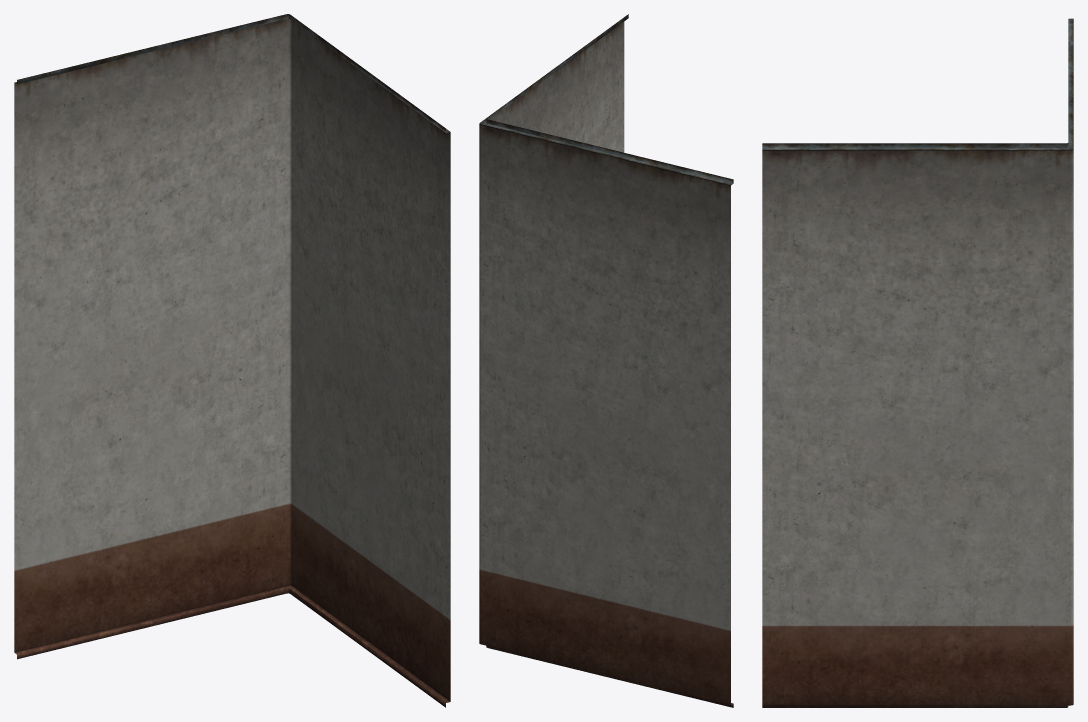
Rendered from scanningroom_concave.dae.
3 renders of one model, left to right at view 1: azimuth 30°, elevation 25°; view 2: azimuth 150°, elevation 25°; view 3: azimuth 270°, elevation 25°, orthographic. The views are drawn at different scales.
Parts seen in each view (by area): view 1: scanningroom_concave; view 2: scanningroom_concave; view 3: scanningroom_concave.
Boxes of the visible parts, bbox=[...] form: scanningroom_concave: bbox=[14, 14, 450, 707]; scanningroom_concave: bbox=[479, 14, 733, 707]; scanningroom_concave: bbox=[762, 18, 1073, 707].
Size of the model in its own units: 200 by 400 by 200.
